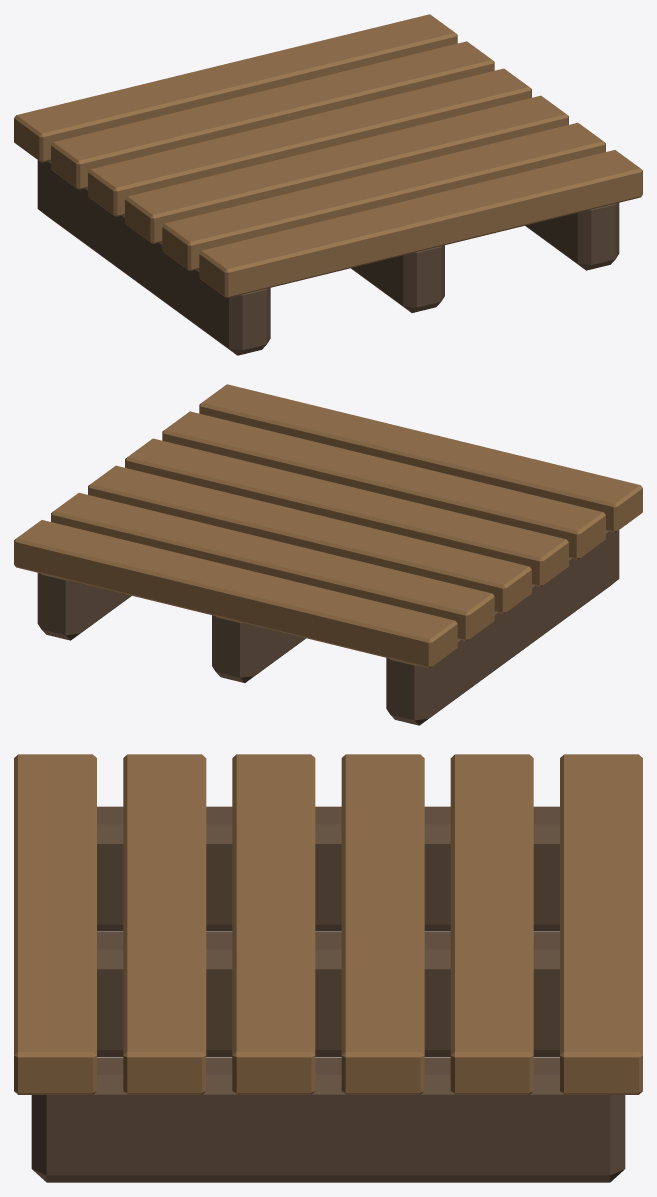
File: props-pallet.lod0.glb
3 renders of one model, top to bottom at view 1: azimuth 30°, elevation 25°; view 2: azimuth 150°, elevation 25°; view 3: azimuth 270°, elevation 25°, orthographic. The views are drawn at different scales.
Parts seen in each view (by area): view 1: props-pallet__body; view 2: props-pallet__body; view 3: props-pallet__body.
Boxes of the visible parts, x1=… form: props-pallet__body: x1=14, y1=14, x2=642, y2=355; props-pallet__body: x1=14, y1=384, x2=642, y2=725; props-pallet__body: x1=14, y1=754, x2=642, y2=1182.
Size of the model in its own units: 1.2 by 0.27 by 1.06.
